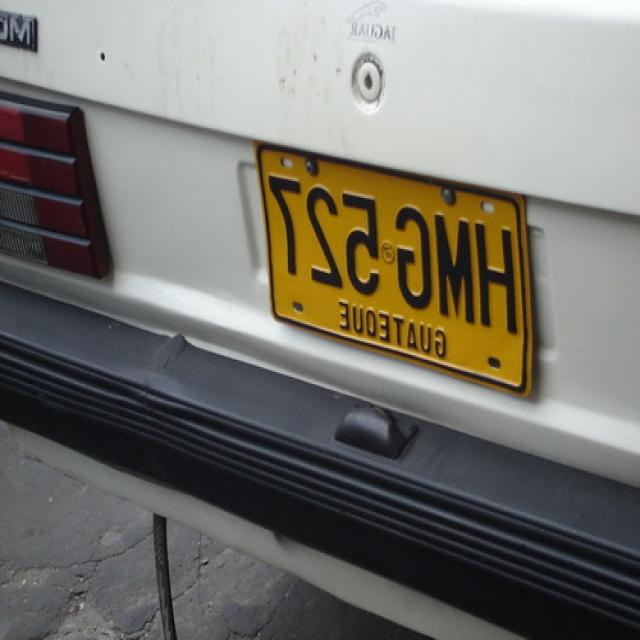placas: (256, 144, 522, 341)
